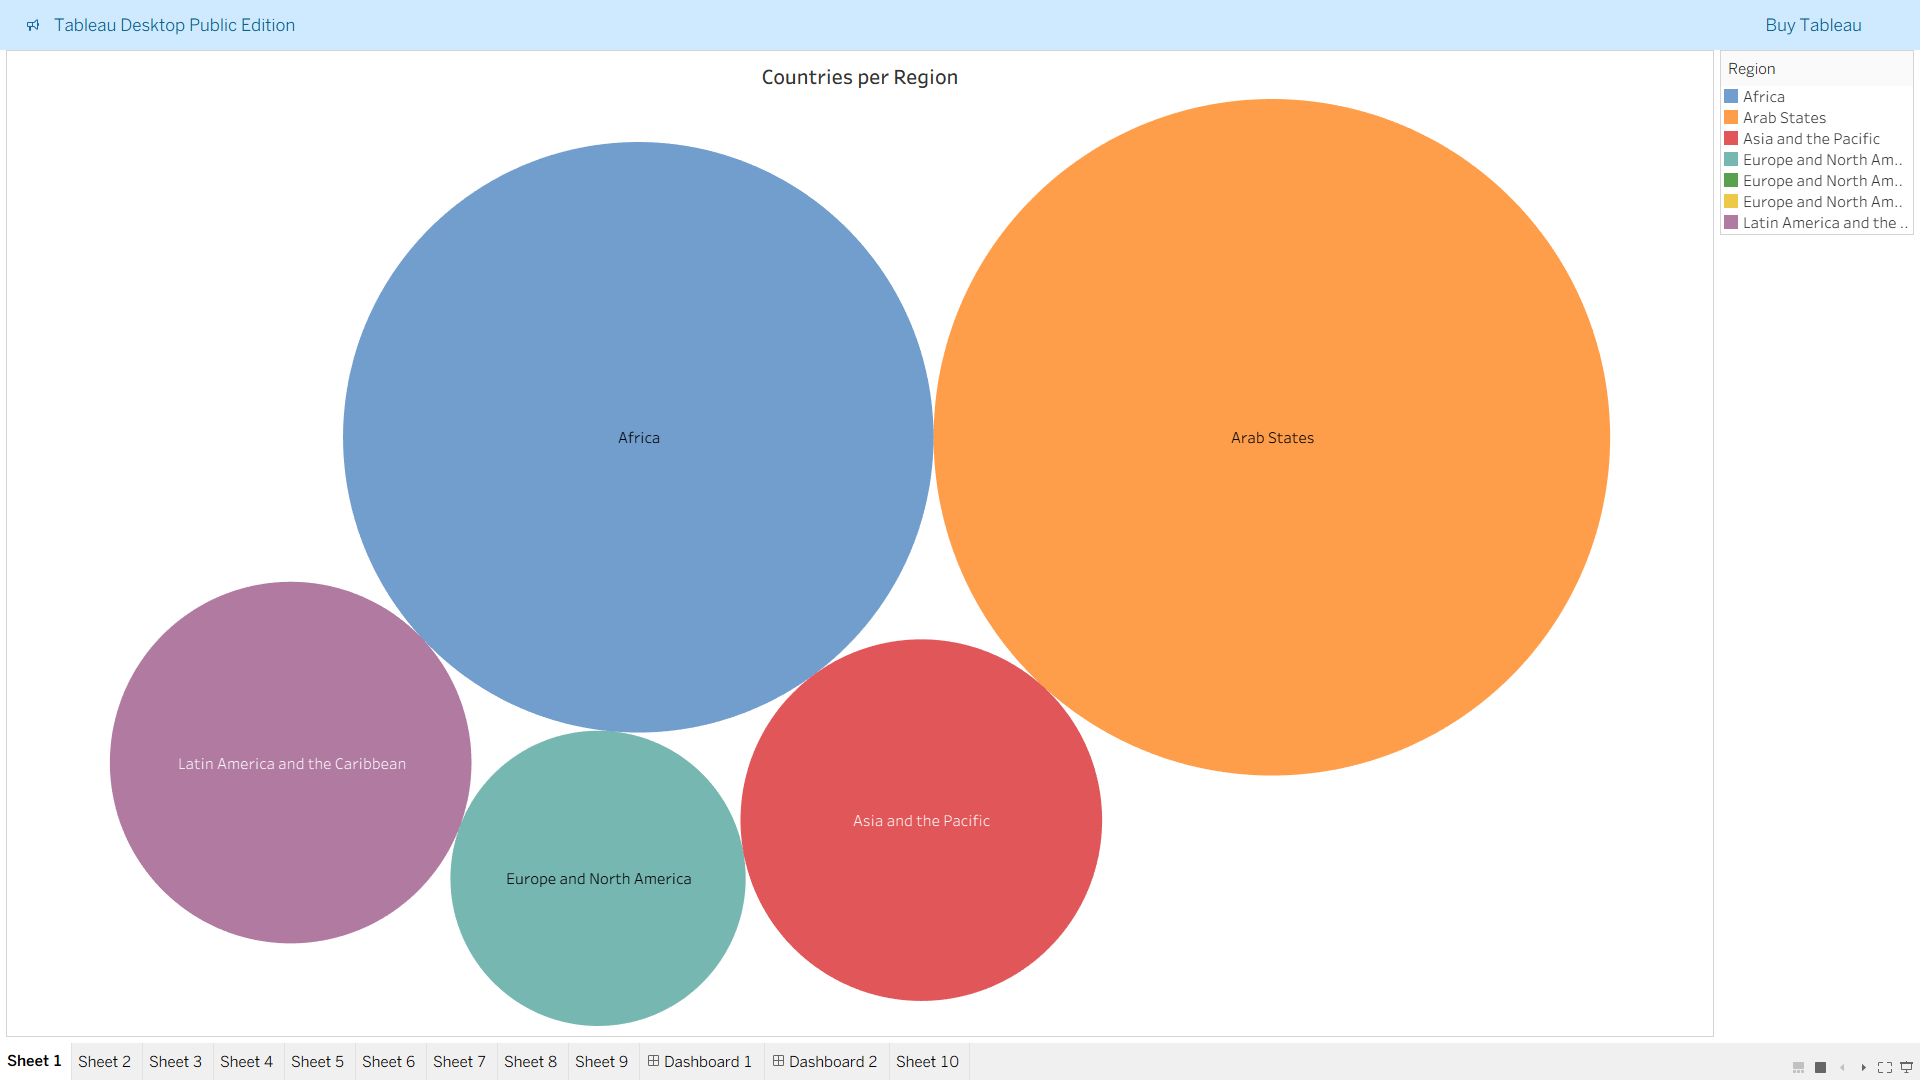

What the dashboard file says about the page in this screenshot:
{"tool":"tableau","page":{"name":"Dashboard 1","canvas":[1000,1000],"units":"permille","ordinal":0},"visuals":[{"type":"title","box":[4.8,10,990.3,52.4]},{"type":"worksheet","title":"Sheet 7","mark":"Pie","box":[334.9,91.1,287.9,415.7]},{"type":"worksheet","title":"Sheet 6","mark":"Automatic","rows":["name_en"],"cols":["region_en"],"box":[3,92.4,331.3,412]},{"type":"worksheet","title":"Sheet 5","mark":"Line","rows":["name_en"],"cols":["date_inscribed"],"box":[1.8,505.6,573.3,476.9]},{"type":"worksheet","title":"Sheet 1","mark":"Circle","box":[575.7,506.9,420.6,475.7]}]}

Visuals, with their boxes on the dashboard's canvas, which has no fixed pixel size, in thousandths of its width and height (x1, y1, x2, y2). These are canvas units, not pixel positions in the 1920x1080 screenshot, which may show the page scaled, cropped or inside an application window:
title: bbox(5, 10, 995, 62)
"Sheet 7" worksheet (Pie marks): bbox(335, 91, 623, 507)
"Sheet 6" worksheet: bbox(3, 92, 334, 504)
"Sheet 5" worksheet (Line marks): bbox(2, 506, 575, 982)
"Sheet 1" worksheet (Circle marks): bbox(576, 507, 996, 983)
